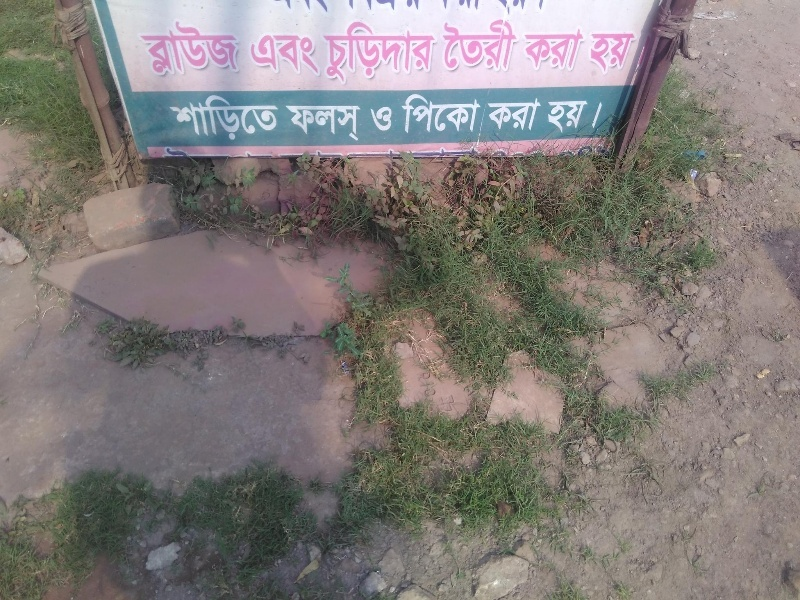text: (321, 20, 336, 88), (337, 20, 352, 88), (353, 20, 368, 88), (369, 20, 384, 88), (385, 20, 400, 88), (401, 20, 416, 88), (417, 20, 432, 88), (145, 18, 160, 77), (161, 18, 176, 77), (177, 18, 192, 77), (193, 18, 208, 77), (209, 18, 224, 77), (225, 18, 240, 77), (449, 18, 464, 72), (465, 18, 480, 72), (481, 18, 496, 72), (497, 18, 512, 72), (177, 93, 192, 144), (193, 93, 208, 144), (209, 93, 224, 144), (225, 93, 240, 144), (241, 93, 256, 144), (257, 93, 272, 144), (625, 29, 641, 75), (529, 25, 544, 73), (545, 25, 560, 73), (561, 25, 576, 73), (593, 29, 608, 75), (609, 29, 624, 75), (273, 93, 286, 144), (257, 33, 272, 76), (273, 33, 288, 76), (289, 33, 304, 76), (305, 33, 320, 76), (401, 92, 416, 134), (417, 92, 432, 134), (433, 92, 448, 134), (449, 92, 464, 134), (465, 92, 480, 134), (134, 18, 144, 77), (289, 104, 304, 142), (305, 104, 320, 142), (321, 104, 336, 142), (337, 104, 352, 142), (561, 98, 576, 134), (577, 98, 592, 134), (593, 98, 608, 134), (497, 97, 512, 133), (513, 97, 528, 133), (529, 97, 544, 133), (577, 25, 588, 73), (513, 18, 522, 72), (433, 20, 440, 88), (547, 98, 560, 134), (241, 18, 248, 77), (247, 33, 256, 76), (371, 105, 384, 133), (169, 93, 176, 144), (353, 104, 362, 142), (593, 102, 604, 131), (488, 97, 496, 133), (443, 18, 448, 72), (385, 105, 393, 133), (513, 1, 528, 15), (529, 1, 544, 15), (499, 1, 512, 15), (273, 1, 288, 13), (289, 1, 304, 13), (305, 1, 320, 13), (353, 1, 368, 12), (369, 1, 384, 12), (385, 1, 400, 12), (401, 1, 416, 12), (449, 1, 464, 11), (465, 1, 480, 11), (525, 25, 528, 73), (589, 29, 592, 75), (321, 1, 331, 13), (285, 104, 288, 142), (417, 1, 425, 12), (481, 92, 483, 134), (441, 1, 448, 11), (346, 1, 352, 12), (591, 102, 592, 131), (545, 1, 547, 15), (481, 1, 482, 11)
